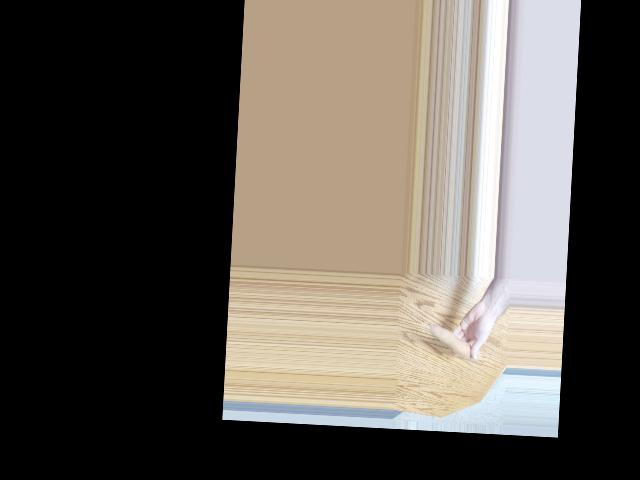sweet_potato: (428, 323, 483, 362)
